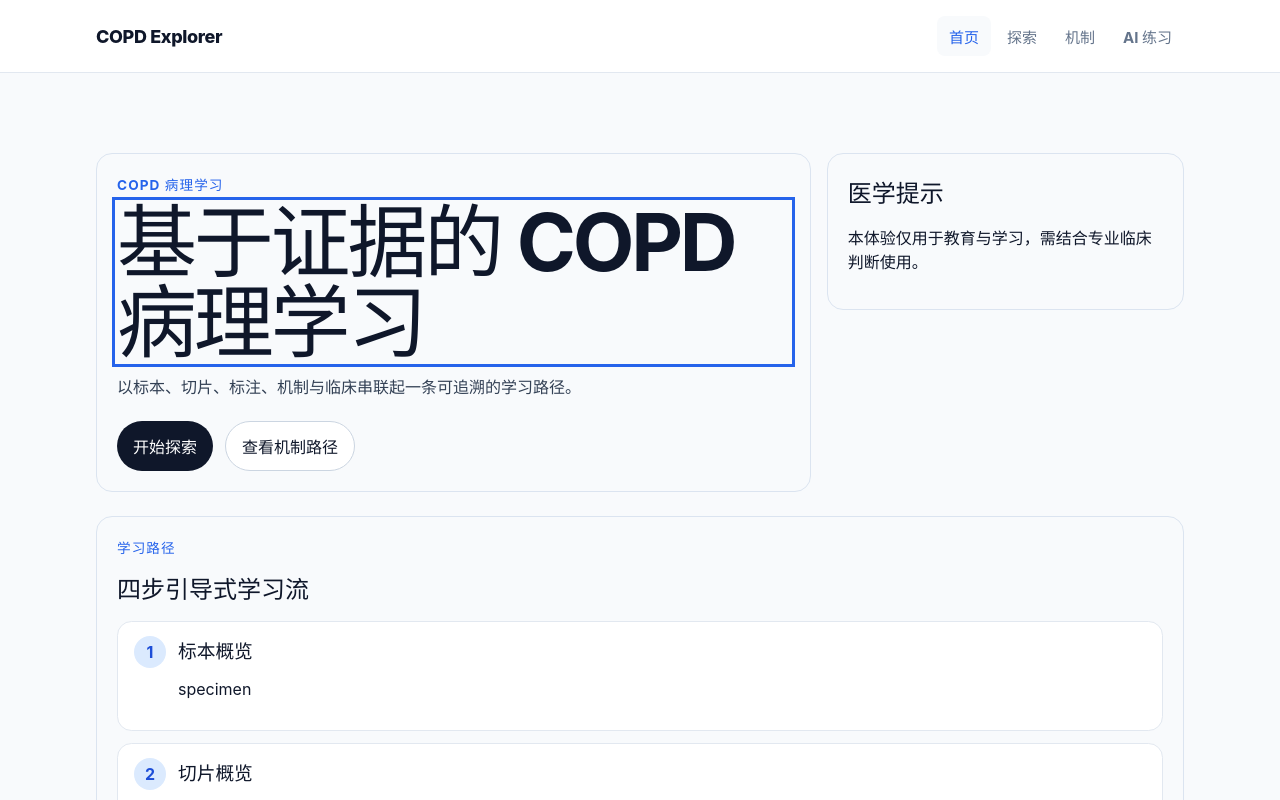
it: application routes › switches routes through the primary navigation
Click the link "探索": (1022, 37) [1007,28,1037,46]
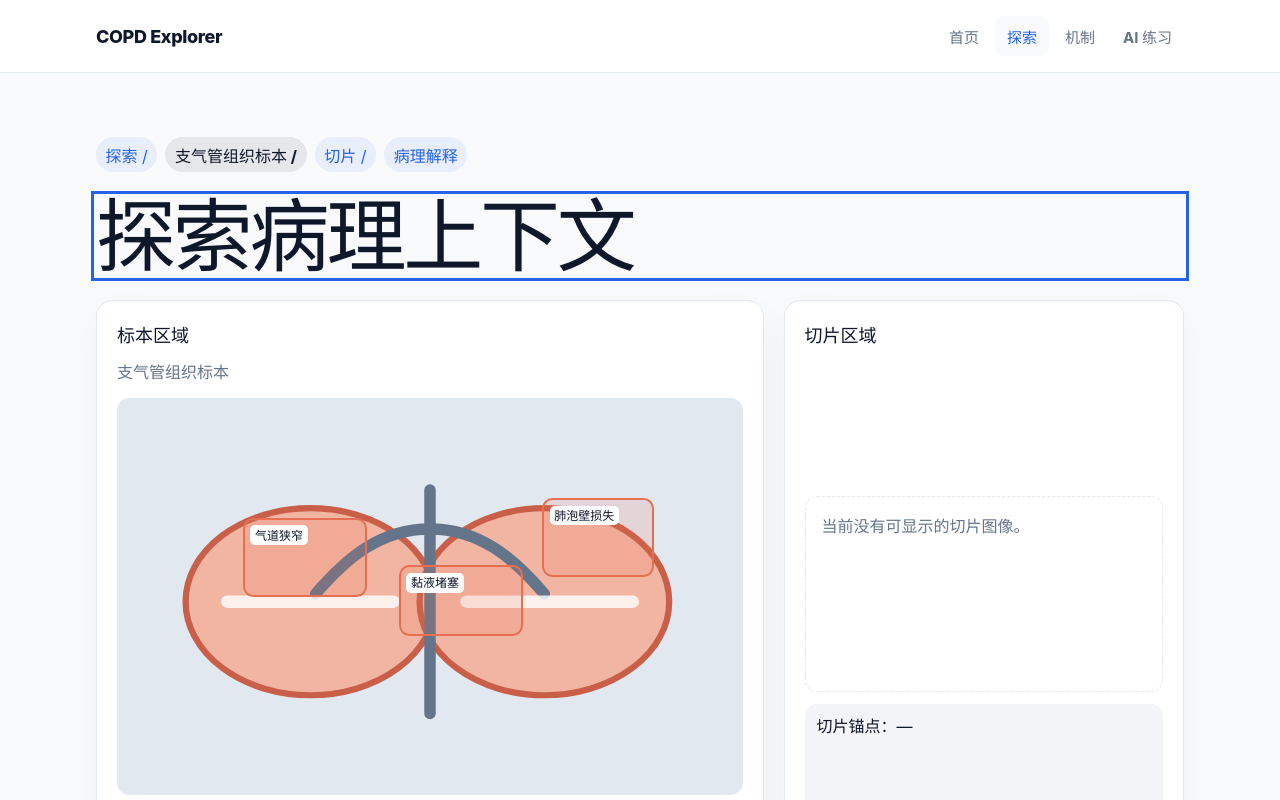
Expected: the heading "探索病理上下文" is shown, [96,187,634,284]
